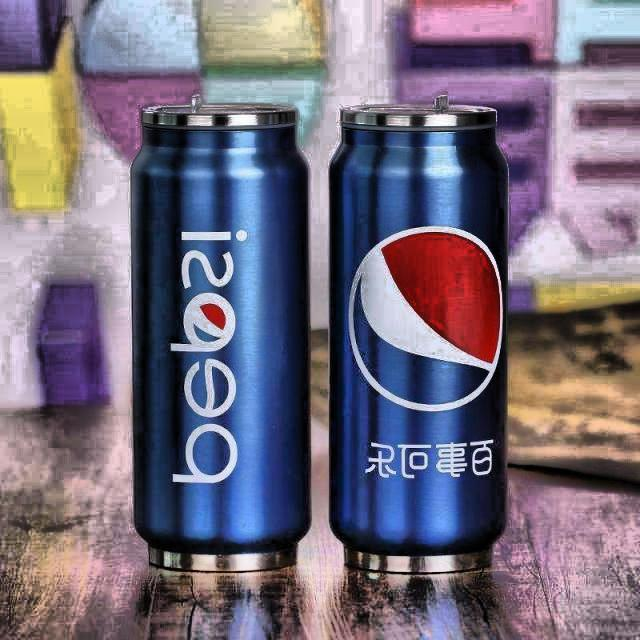can: (324, 98, 515, 580), (128, 97, 314, 580)
